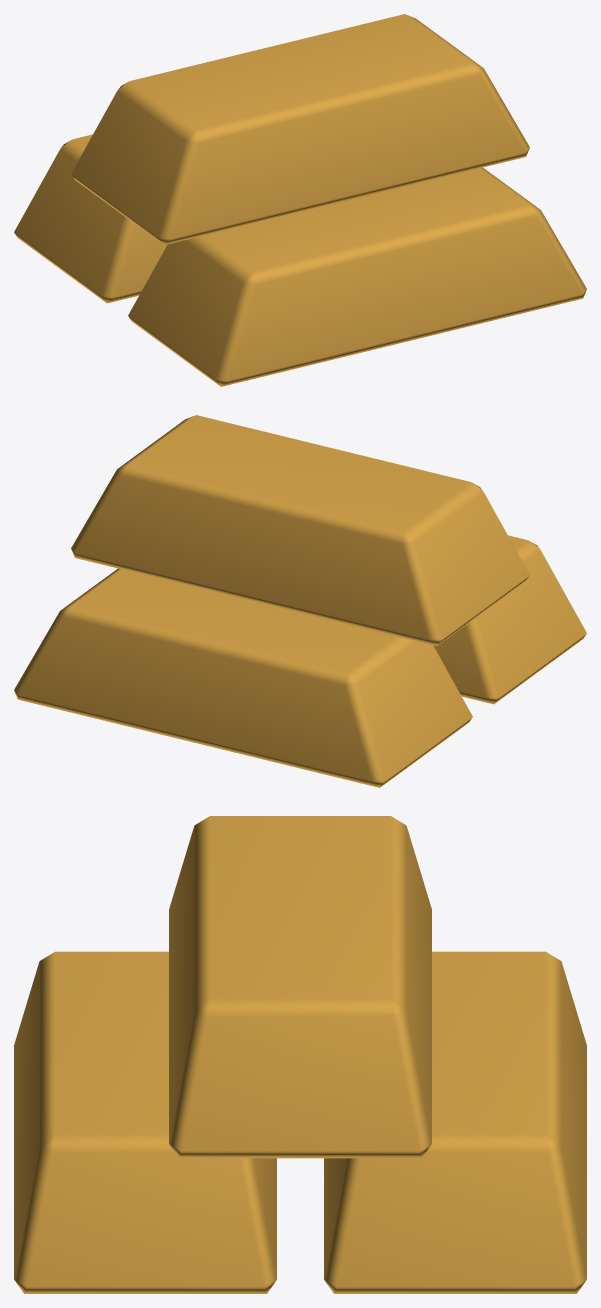
File: alloy.glb
3 renders of one model, top to bottom at view 1: azimuth 30°, elevation 25°; view 2: azimuth 150°, elevation 25°; view 3: azimuth 270°, elevation 25°, orthographic. The views are drawn at different scales.
Visible parts, largest first — view 1: Cast metal bar.002, Cast metal bar, Cast metal bar.001; view 2: Cast metal bar.002, Cast metal bar.001, Cast metal bar; view 3: Cast metal bar.002, Cast metal bar, Cast metal bar.001.
Part boxes in pixels (bbox=[...]): Cast metal bar.002: bbox=[71, 14, 529, 245]; Cast metal bar: bbox=[128, 167, 586, 386]; Cast metal bar.001: bbox=[14, 134, 167, 303]; Cast metal bar.002: bbox=[71, 415, 529, 646]; Cast metal bar.001: bbox=[14, 568, 472, 787]; Cast metal bar: bbox=[433, 535, 586, 704]; Cast metal bar.002: bbox=[169, 816, 431, 1158]; Cast metal bar: bbox=[14, 951, 276, 1293]; Cast metal bar.001: bbox=[324, 951, 586, 1293].
Bounding box in the file's own units: 1.13 × 0.57 × 1.11.
